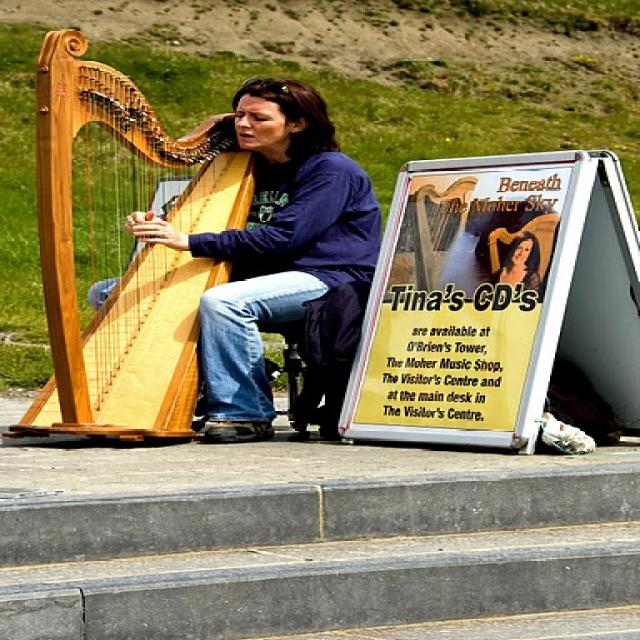harp: (10, 26, 258, 445), (412, 176, 487, 300)
